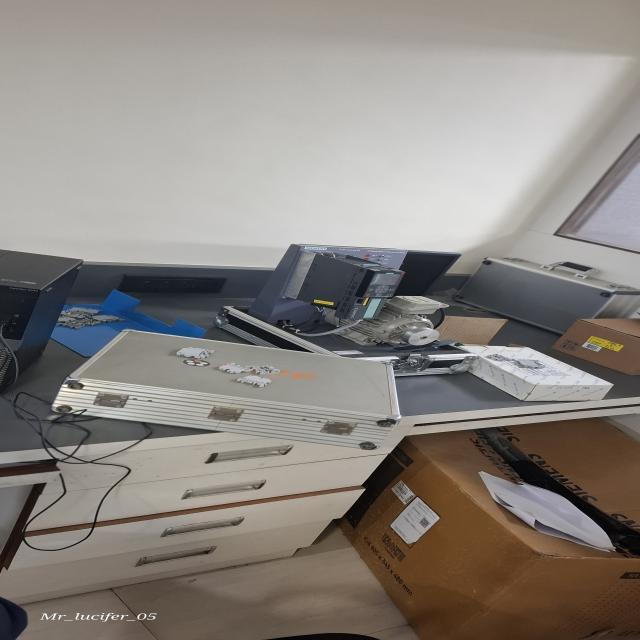Inverted: (234, 374, 274, 388), (216, 362, 256, 375)
Reject: (245, 364, 282, 376)
